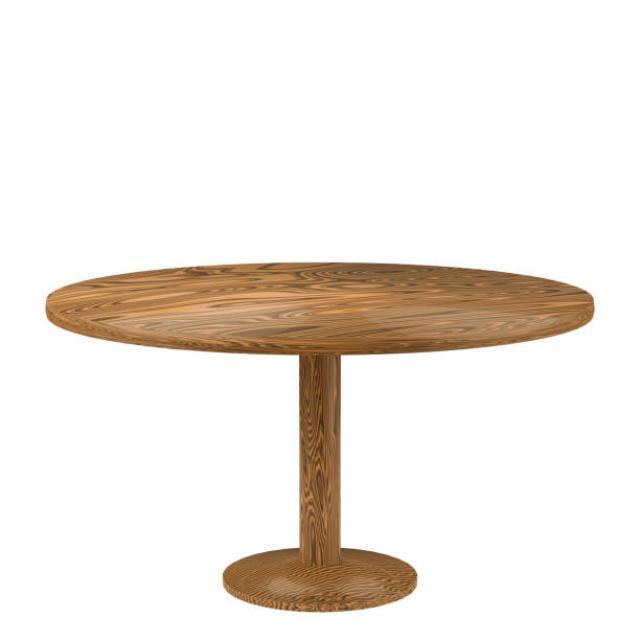table: (45, 260, 595, 613)
